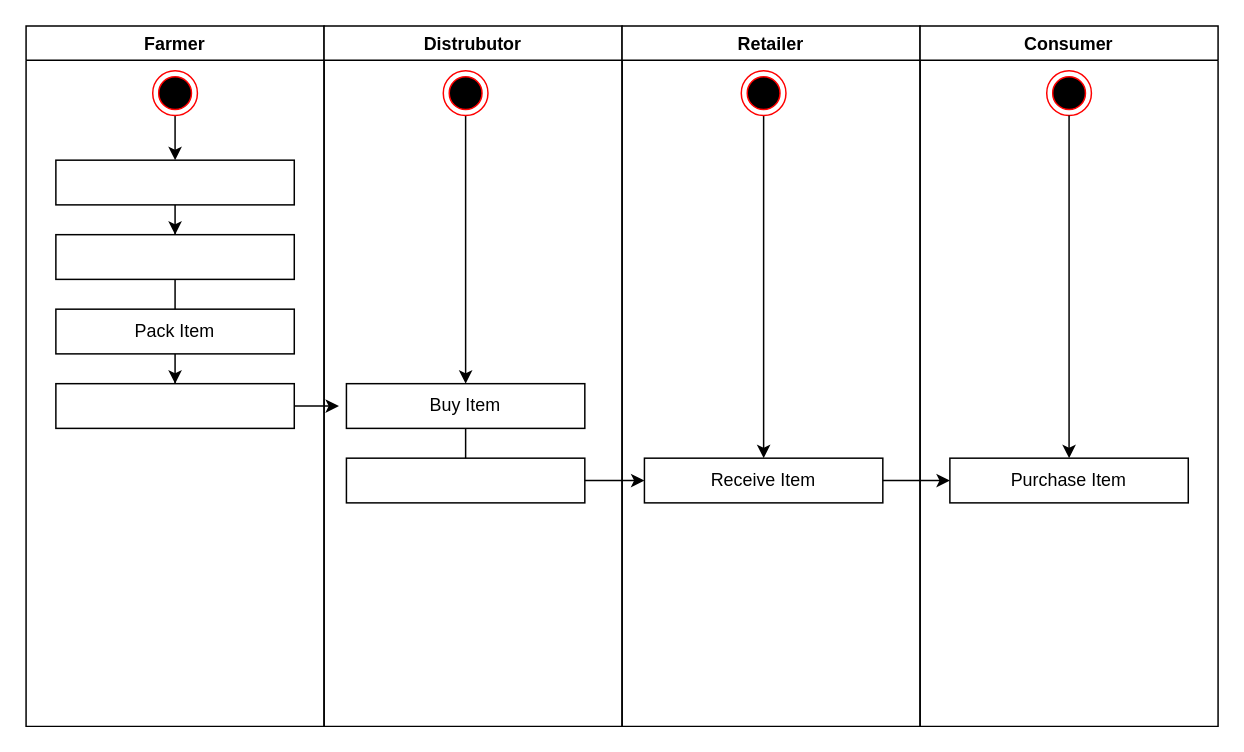
Some shapes in this 1244 by 752 pixel diagram are drawn without their labels. The shapes that lost their labels are listed below. From the top down, each one's box as (x1, y1, x2, y2) in pixels, then its label:
(54, 159, 294, 205): Harvest Item
(54, 233, 294, 279): Process Item
(54, 382, 294, 428): Mark Item For Sale
(345, 457, 585, 503): Ship Item
